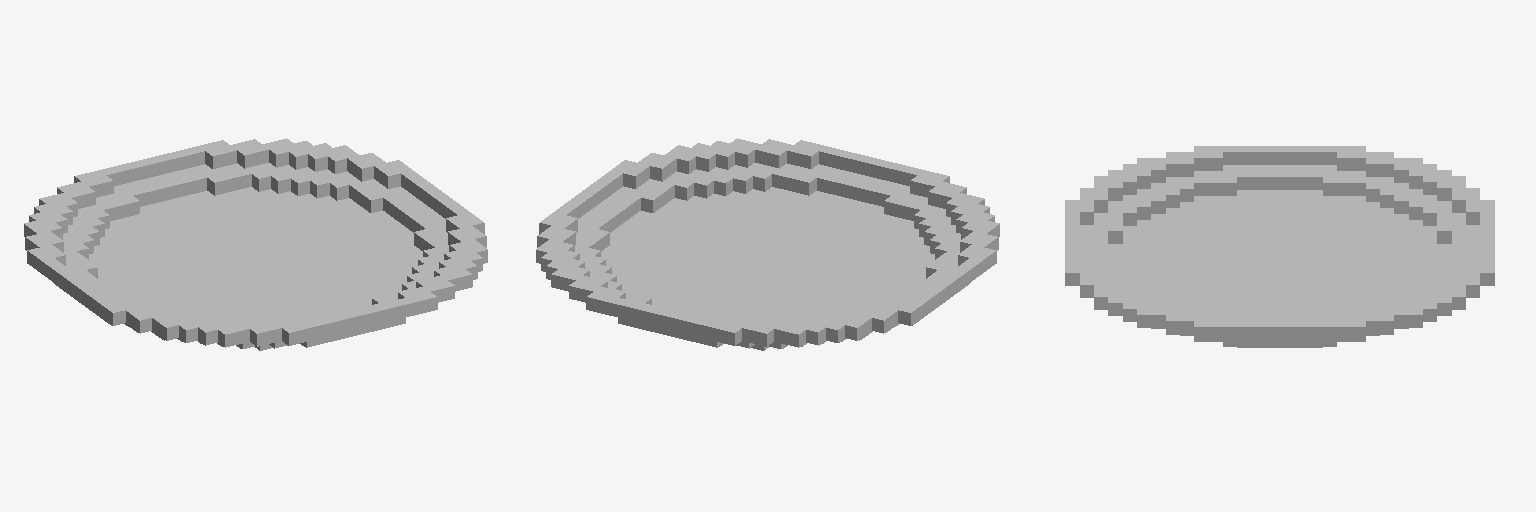
Rendered from plate.obj.
3 renders of one model, left to right at view 1: azimuth 30°, elevation 25°; view 2: azimuth 150°, elevation 25°; view 3: azimuth 270°, elevation 25°, orthographic.
Parts seen in each view (by area): view 1: object 1; view 2: object 1; view 3: object 1.
Boxes of the visible parts, x1=… form: object 1: x1=24, y1=138, x2=487, y2=350; object 1: x1=536, y1=138, x2=999, y2=350; object 1: x1=1065, y1=146, x2=1494, y2=347.
Bounding box in the file's own units: 3 × 0.3 × 3.